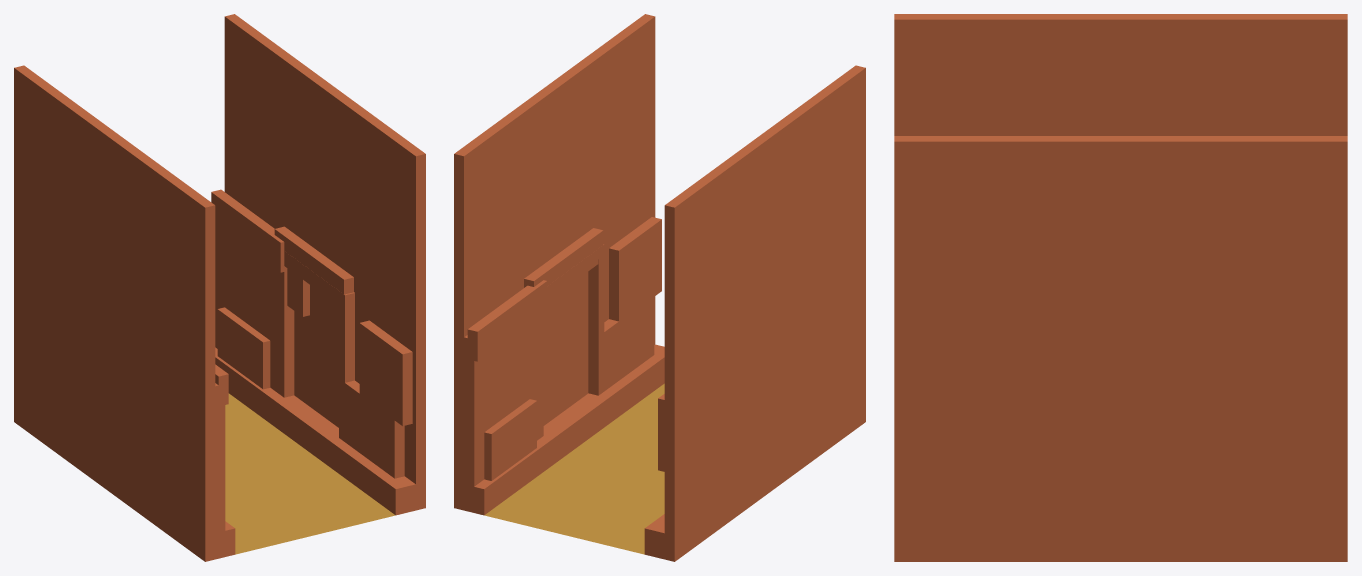
File: ambiente cavallone finale tipo 2.fbx
3 views of the same model, side by side, from view 1: azimuth 30°, elevation 25°; view 2: azimuth 150°, elevation 25°; view 3: azimuth 270°, elevation 25° (orthographic). The views are drawn at different scales.
Parts seen in each view (by area): view 1: Connect_1, Connect, Plane; view 2: Connect_1, Connect, Plane; view 3: Connect_1, Connect.
Part boxes in pixels (box(x1,y1,x2,y2)): Connect_1: box(211, 14, 425, 515); Connect: box(14, 65, 235, 561); Plane: box(225, 393, 395, 554); Connect_1: box(454, 14, 664, 515); Connect: box(644, 65, 865, 561); Plane: box(484, 383, 664, 554); Connect_1: box(894, 136, 1347, 561); Connect: box(894, 14, 1347, 135).
Size of the model in its own units: 4400 by 6750 by 6600.
